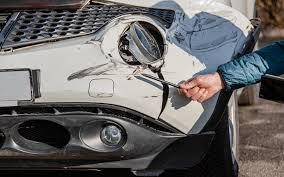front-bumper-dent: (0, 51, 223, 163)
